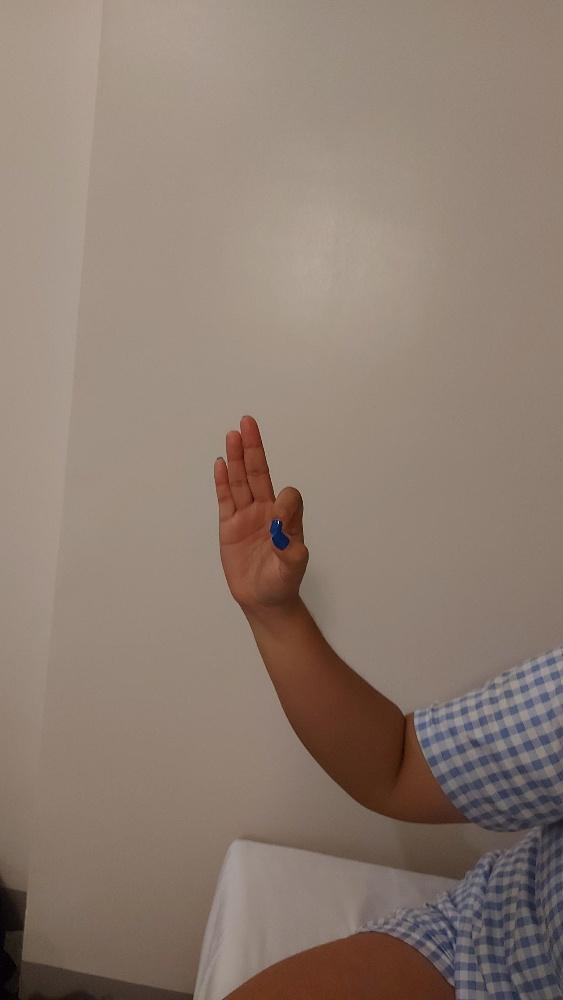f: (212, 412, 309, 609)
